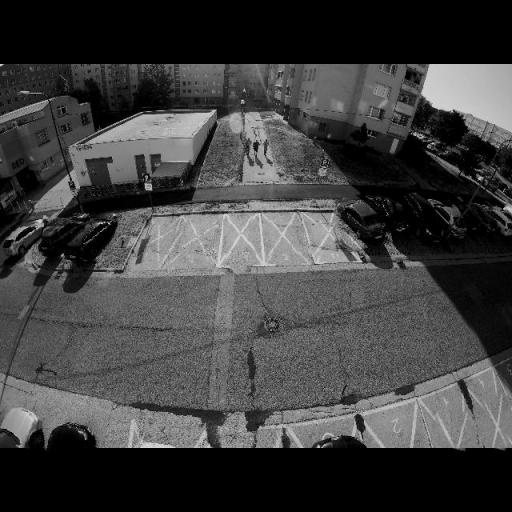busy: (338, 192, 390, 250), (66, 213, 116, 262), (402, 192, 448, 242), (0, 218, 42, 271), (38, 216, 84, 260), (0, 406, 41, 449), (43, 418, 98, 449), (376, 197, 413, 235), (448, 202, 486, 238), (436, 204, 474, 238), (479, 205, 512, 241)
free: (477, 392, 512, 449), (432, 408, 472, 450), (144, 224, 180, 270), (268, 216, 302, 258), (222, 217, 256, 258), (182, 220, 215, 262), (310, 221, 343, 259)
